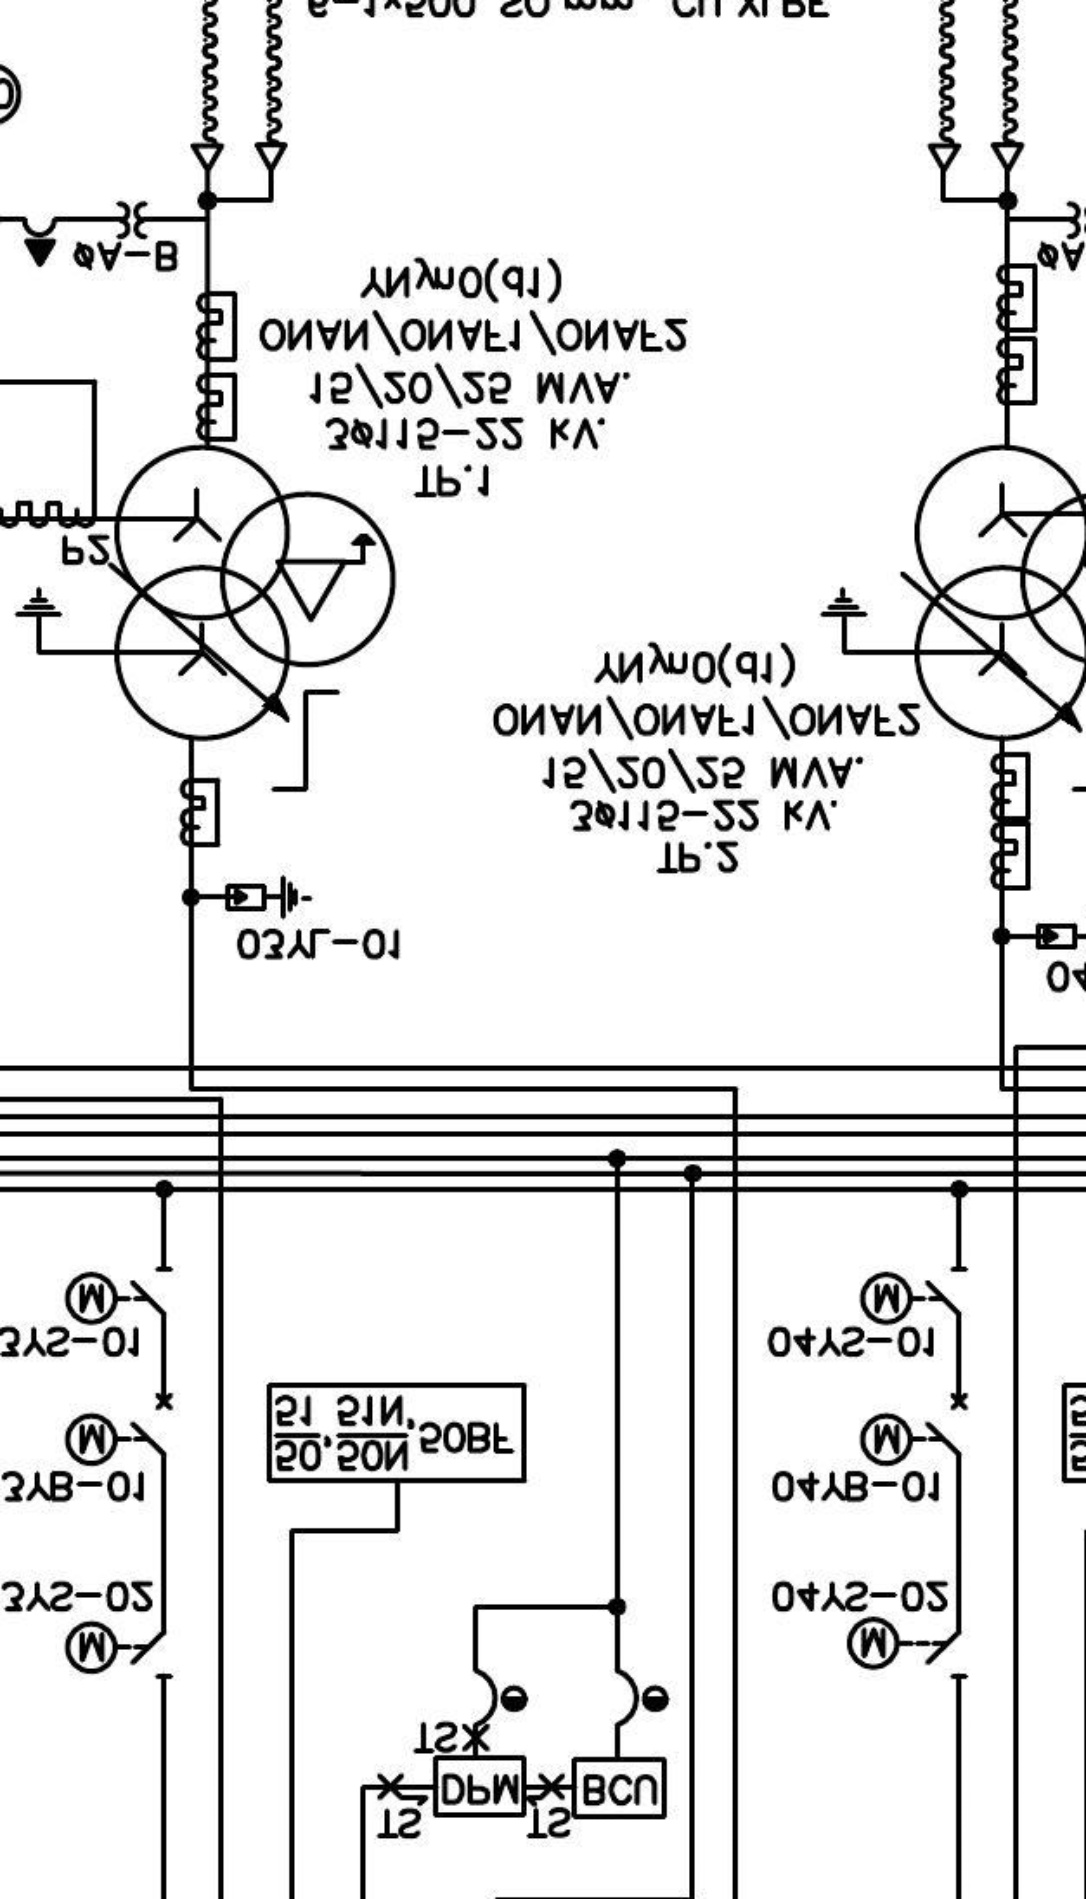11522_tx_ynyn0d1: (112, 442, 398, 743)
115_1way_ds_w_motor: (846, 1615, 969, 1680), (64, 1266, 175, 1326), (64, 1620, 175, 1680), (858, 1266, 969, 1326)
115_breaker: (129, 1392, 175, 1456), (924, 1392, 969, 1456)
115_la: (224, 874, 313, 921)
BCU: (571, 1757, 668, 1819)
DPM: (433, 1754, 527, 1818)
terminator_double: (926, 141, 1026, 205), (189, 142, 288, 205)
